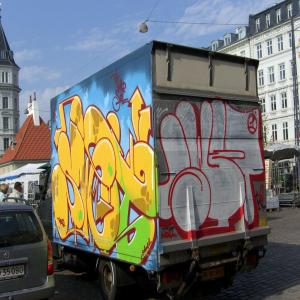Vehicle-registration-plate: (2, 265, 26, 282), (201, 268, 226, 282)
